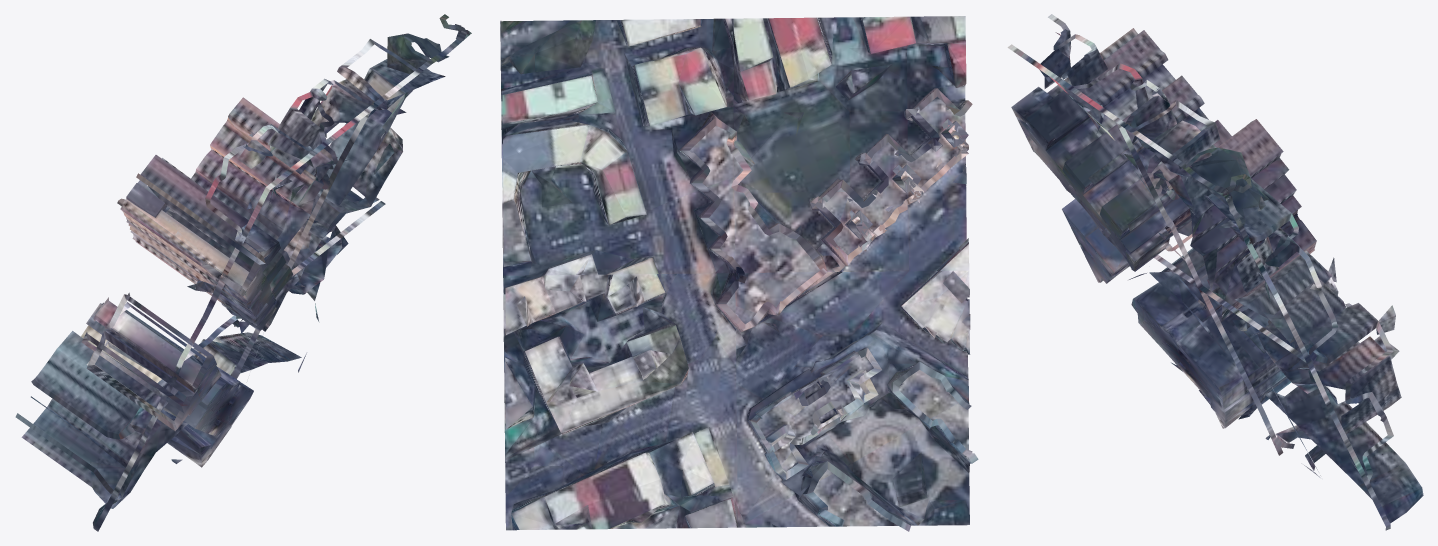
The picture shows the model from 3 angles, left to right: view 1: azimuth 30°, elevation 25°; view 2: azimuth 150°, elevation 25°; view 3: azimuth 270°, elevation 25°; orthographic projection. The views are drawn at different scales.
Size of the model in its own units: 169 by 147 by 139.
Materials: 3 (3 with a texture image).
